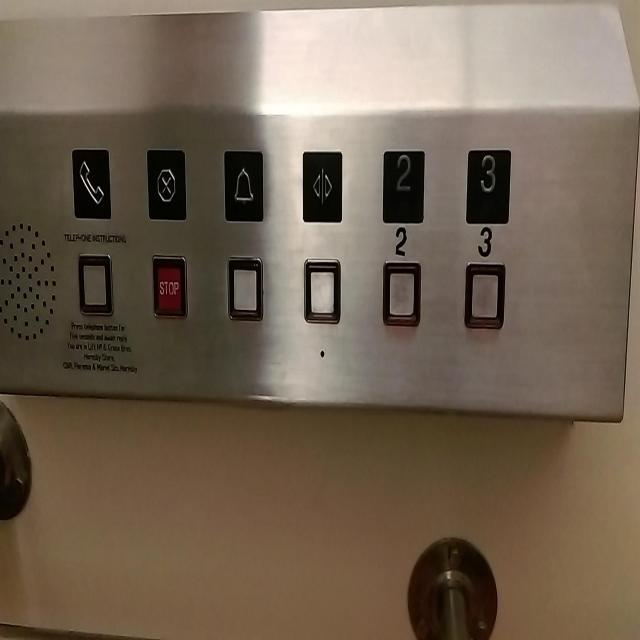2: (381, 148, 426, 224)
3: (465, 144, 511, 228)
alarm: (220, 147, 266, 223)
call: (68, 143, 114, 220)
empty: (225, 249, 265, 323), (75, 247, 115, 320), (302, 254, 342, 327), (382, 255, 422, 328), (465, 257, 505, 330)
open: (299, 149, 345, 225)
stop: (143, 145, 189, 222)
text_stop: (149, 250, 189, 324)
